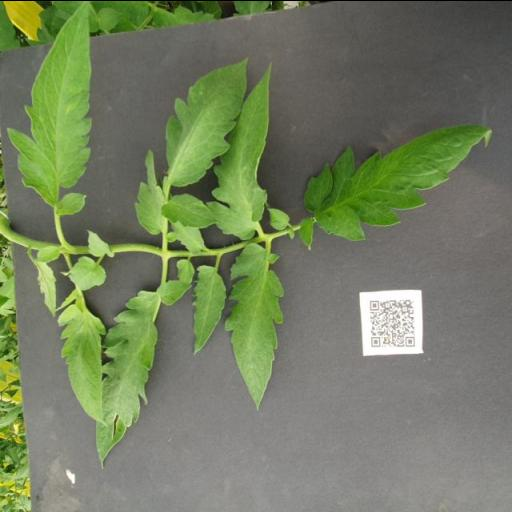Healthy: (305, 122, 496, 242), (6, 0, 92, 215), (206, 61, 272, 240), (96, 289, 158, 468), (165, 56, 250, 186), (224, 242, 286, 410), (54, 282, 108, 428), (192, 264, 227, 354)
